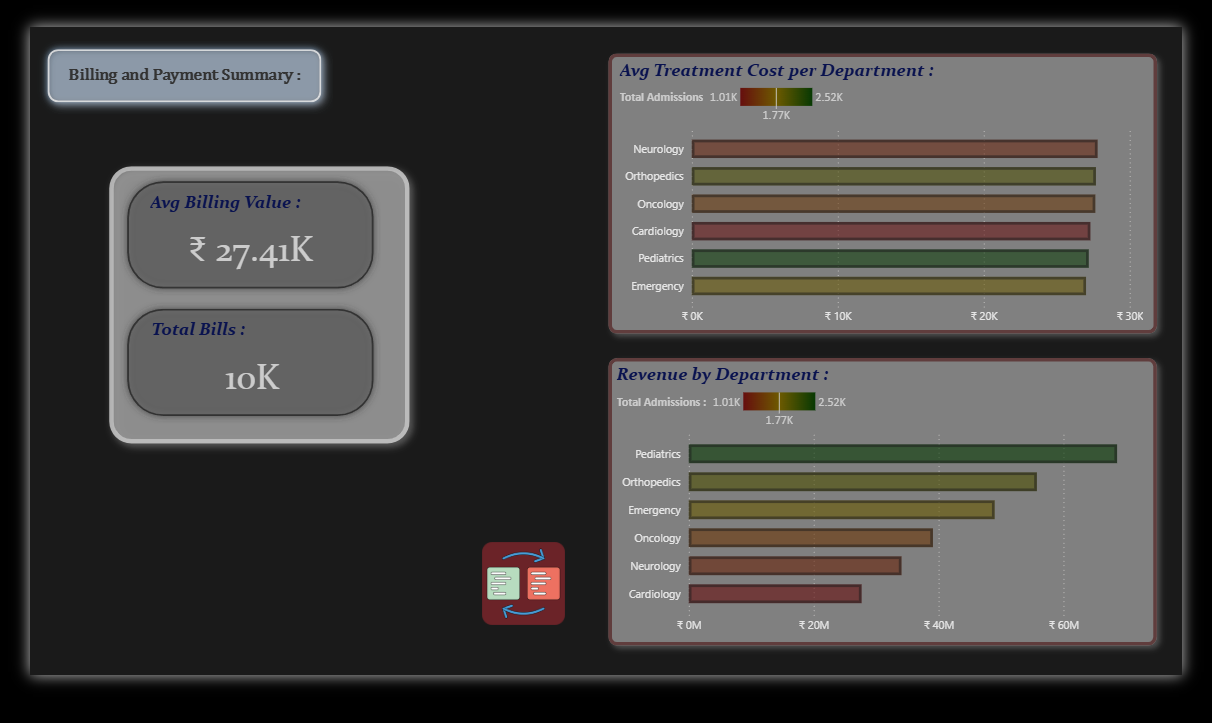

The dashboard page shown, as its layout file describes it:
{"tool":"powerbi","page":{"name":"Billing & Payment Analysis  :- ","canvas":[1280,720],"ordinal":4},"visuals":[{"type":"group","id":"g1","title":"Visual - Co-payment Distribution ","box":[746.7,0,516.7,365],"z":0,"group":"g3"},{"type":"shape","box":[746.7,0,516.7,365],"z":0,"group":"g1"},{"type":"shape","box":[75.3,141.3,359.8,334.1],"z":0,"group":"g9"},{"type":"actionButton","title":"Home Button ","box":[25,142.5,95,100],"z":0,"group":"g8"},{"type":"group","id":"g2","title":"KPI - Avg Billing Value ","box":[100.6,163,289.8,135.3],"z":0,"group":"g4"},{"type":"shape","box":[100.6,163,289.8,135.3],"z":0,"group":"g2"},{"type":"shape","box":[100.6,305,289.8,135.3],"z":0,"group":"g5"},{"type":"shape","box":[747.6,355,516.7,365],"z":0,"group":"g6"},{"type":"actionButton","title":"Previous Button ","box":[25,600,95,100],"z":0,"group":"g7"},{"type":"group","id":"g3","title":"Visual - Payment ","box":[746.7,0,517.6,720],"z":1000},{"type":"donutChart","title":"Co-payment Distribution","fields":{"Y":["Sum(Billing.Insurance_Cover)","Sum(Billing.Out_of_Pocket)"]},"box":[764.6,17.9,484.4,330],"z":1000,"group":"g1"},{"type":"actionButton","title":"Filter Button ","box":[25,20,95,100],"z":1000,"group":"g8"},{"type":"group","id":"g4","title":"All KPIs ","box":[100.6,163,289.8,277.3],"z":1000,"group":"g9"},{"type":"card","title":"Avg Billing Value :","fields":{"Values":["MyMeasures.Average Bill Value"]},"box":[128.8,180.5,233.4,100.2],"z":1000,"group":"g2"},{"type":"group","id":"g5","title":"KPI - Bills ","box":[100.6,305,289.8,135.3],"z":1000,"group":"g4"},{"type":"card","title":"Total Bills :","fields":{"Values":["MyMeasures.Total Bills"]},"box":[129.8,323.4,233.4,100.2],"z":1000,"group":"g5"},{"type":"group","id":"g6","title":"Visual - Payment Status Split","box":[747.6,355,516.7,365],"z":1000,"group":"g3"},{"type":"donutChart","title":"Payment Status Split :","fields":{"Category":["Billing.Payment_Status"],"Y":["MyMeasures.Revenue(Total)"]},"box":[765.9,373.3,483.3,330],"z":1000,"group":"g6"},{"type":"actionButton","title":"Change View Button 1","box":[618,572,100,100],"z":2000},{"type":"group","id":"g7","title":"Navigation ","box":[25,600,95,100],"z":4000},{"type":"shape","title":"Title","box":[7,11,330,85],"z":4500},{"type":"group","id":"g8","title":"Home + Filter ","box":[25,20,95,222.5],"z":5000},{"type":"group","id":"g9","title":"KPI with BG","box":[75.3,141.3,359.8,334.1],"z":6000}]}

Visuals, with their boxes on the page's 1280x720 design canvas (x1, y1, x2, y2). These are canvas units, not pixel positions in the 1212x723 screenshot, which may show the page scaled, cropped or inside an application window:
"Visual - Co-payment Distribution " group: 747,0,1263,365
shape: 747,0,1263,365
shape: 75,141,435,475
"Home Button " actionButton: 25,142,120,242
"KPI - Avg Billing Value " group: 101,163,390,298
shape: 101,163,390,298
shape: 101,305,390,440
shape: 748,355,1264,720
"Previous Button " actionButton: 25,600,120,700
"Visual - Payment " group: 747,0,1264,720
"Co-payment Distribution" donutChart: 765,18,1249,348
"Filter Button " actionButton: 25,20,120,120
"All KPIs " group: 101,163,390,440
"Avg Billing Value :" card: 129,180,362,281
"KPI - Bills " group: 101,305,390,440
"Total Bills :" card: 130,323,363,424
"Visual - Payment Status Split" group: 748,355,1264,720
"Payment Status Split :" donutChart: 766,373,1249,703
"Change View Button 1" actionButton: 618,572,718,672
"Navigation " group: 25,600,120,700
"Title" shape: 7,11,337,96
"Home + Filter " group: 25,20,120,242
"KPI with BG" group: 75,141,435,475
